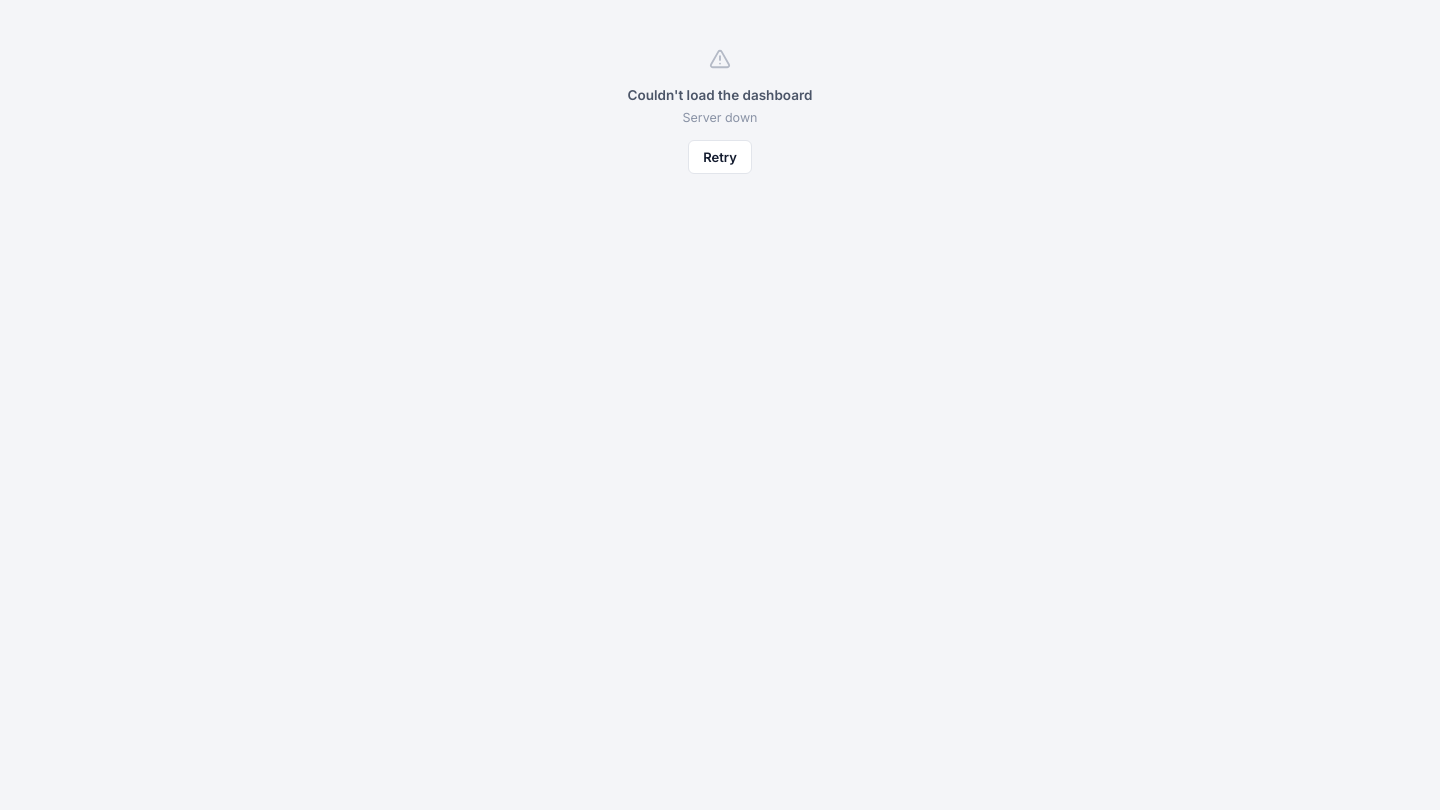
Dashboard › says when nothing needs attention and offers a retry when loading fails
Later steps or results of the test are not shown.
Expected: the text "Server down" is shown, [682, 110, 758, 125]
Click the button "Retry". click: [720, 157]
box: [688, 140, 752, 174]
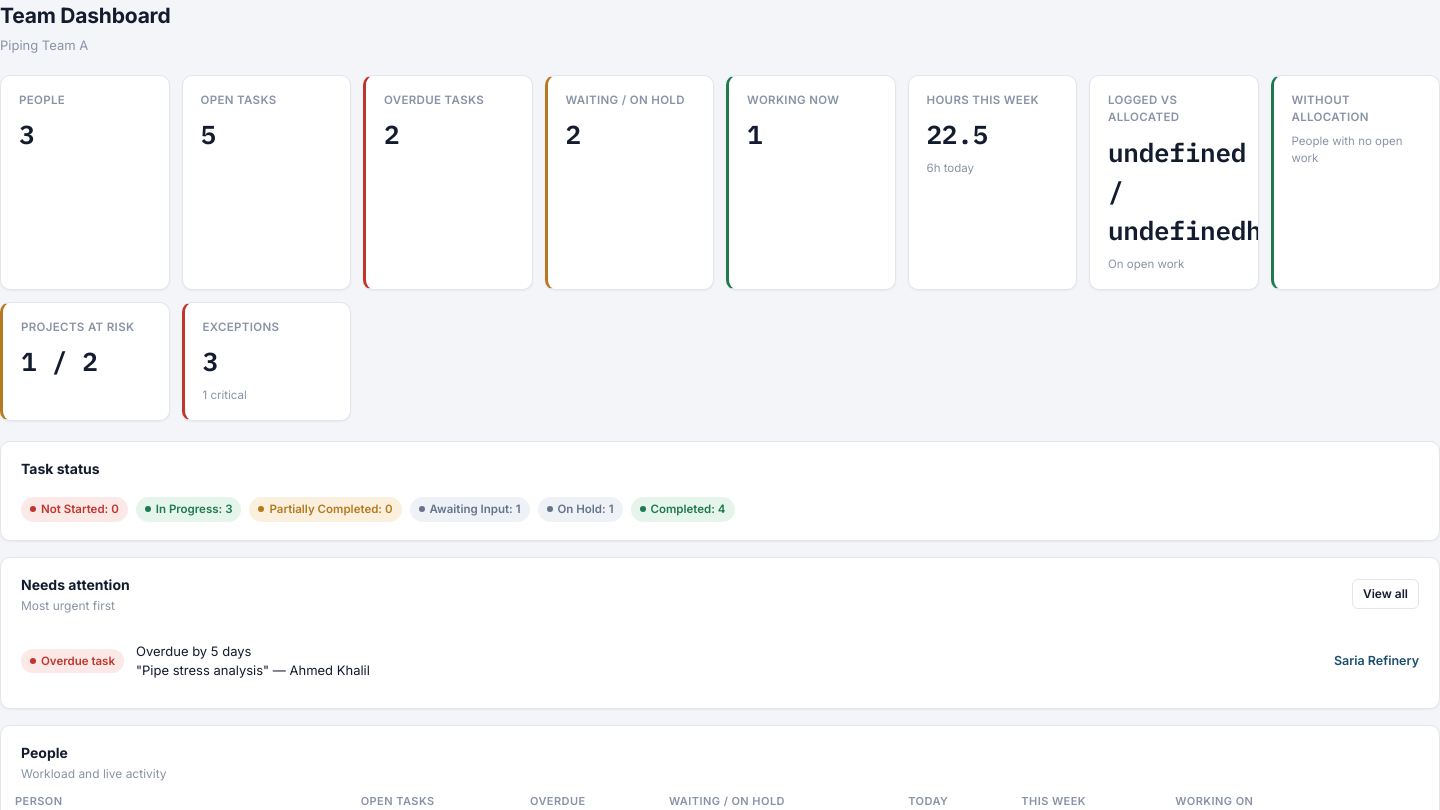
Expected: the heading "Team Dashboard" is shown, [0, 0, 170, 32]
